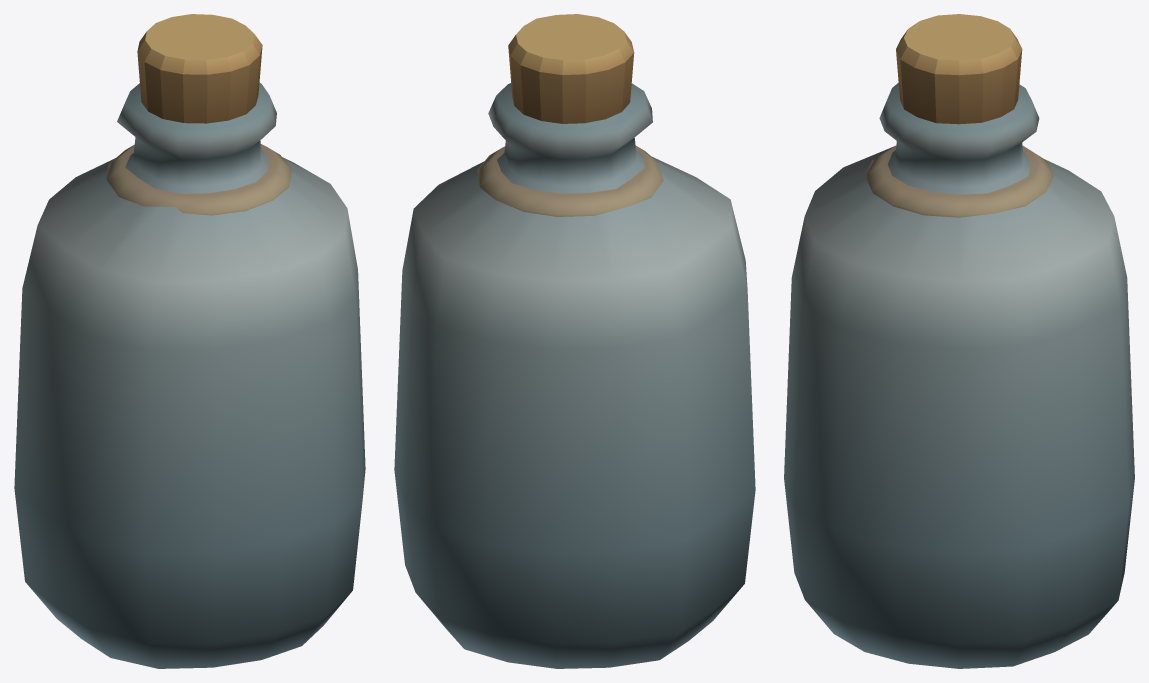
The model's file is building-ruins-bottleWater-v1.glb.
3 views of the same model, side by side, from view 1: azimuth 30°, elevation 25°; view 2: azimuth 150°, elevation 25°; view 3: azimuth 270°, elevation 25° (orthographic).
Parts seen in each view (by area): view 1: 0_ruins-bottleWater; view 2: 0_ruins-bottleWater; view 3: 0_ruins-bottleWater.
Boxes of the visible parts, x1,y1,x2,y2 form: 0_ruins-bottleWater: [14, 14, 365, 668]; 0_ruins-bottleWater: [394, 14, 755, 668]; 0_ruins-bottleWater: [784, 14, 1134, 668].
Size of the model in its own units: 0.1369 by 0.25 by 0.1379.
